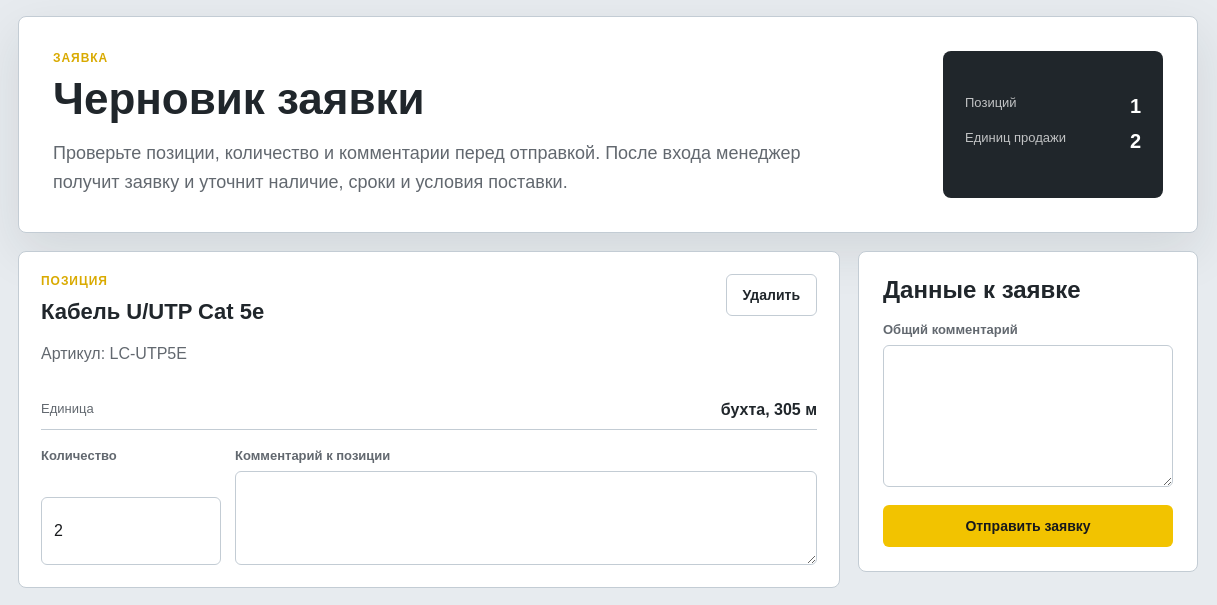
Test: RequestDraftView › removes an item
The width and height of the screenshot is (1217, 605).
expect the link "Кабель U/UTP Cat 5e" is shown: met, box [41,299,264,324]
Click the button with aria-label "Удалить Кабель U/UTP Cat 5e": [771, 295] box [726,274,817,316]
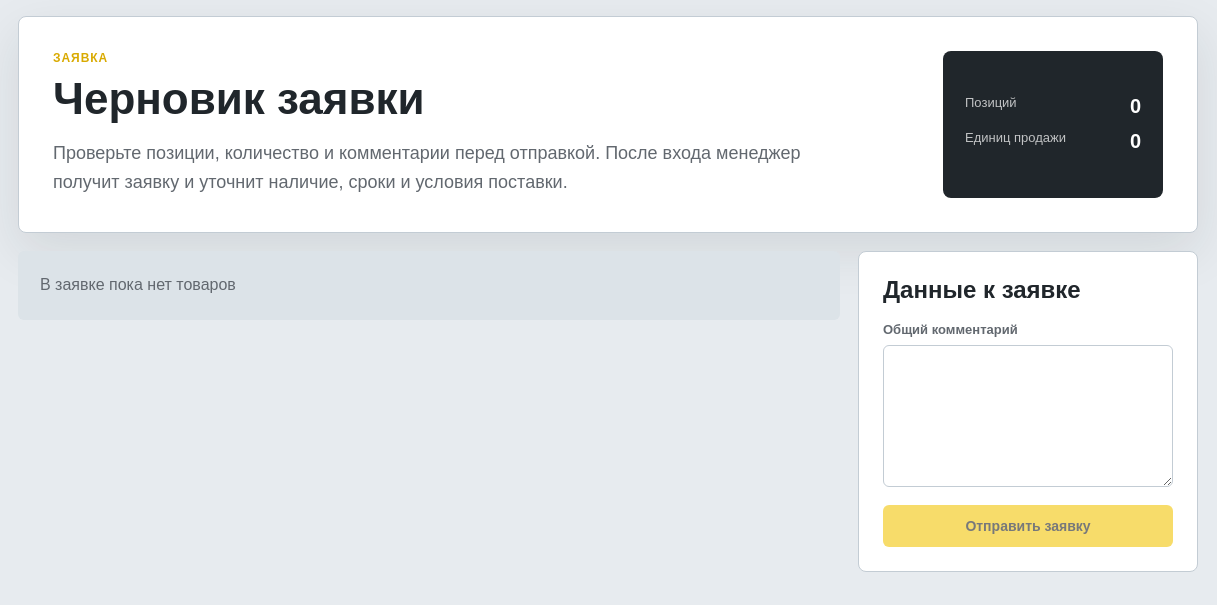
expect the link "Кабель U/UTP Cat 5e" is gone: met
expect the text "В заявке пока нет товаров" is shown: met, box [18,251,840,320]
